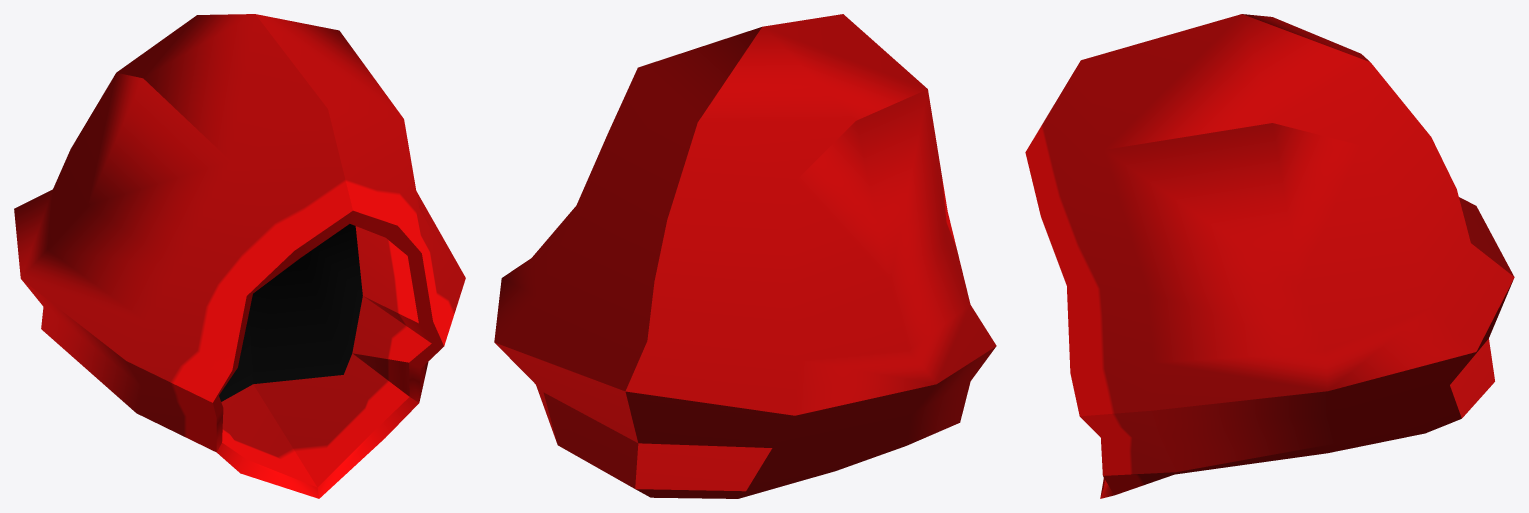
3 renders of one model, left to right at view 1: azimuth 30°, elevation 25°; view 2: azimuth 150°, elevation 25°; view 3: azimuth 270°, elevation 25°, orthographic. The views are drawn at different scales.
Visible parts, largest first — view 1: Hood; view 2: Hood; view 3: Hood.
Boxes of the visible parts, x1=… form: Hood: x1=14, y1=14, x2=465, y2=498; Hood: x1=494, y1=14, x2=996, y2=498; Hood: x1=1025, y1=14, x2=1514, y2=498.
Size of the model in its own units: 0.3903 by 0.4177 by 0.3818.
Materials: 1 (1 with a texture image).
